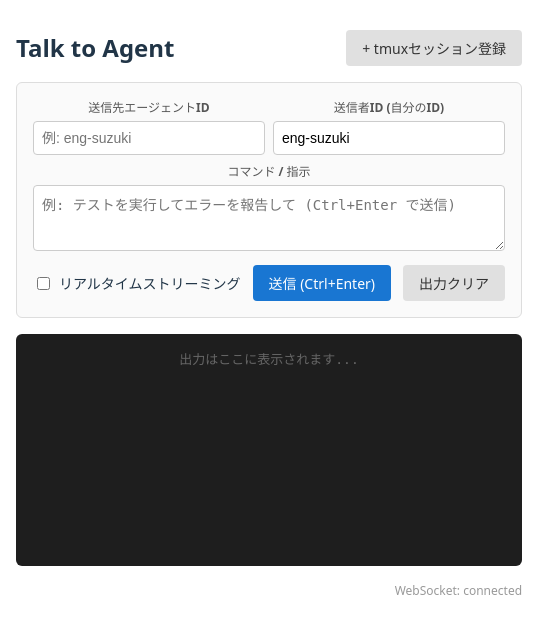
it: TalkToAgent › エラー時にエラーメッセージが表示される
Type "eng-yamada" into the field with placeholder "例: eng-suzuki" at [149, 138], box [33,121,265,155]
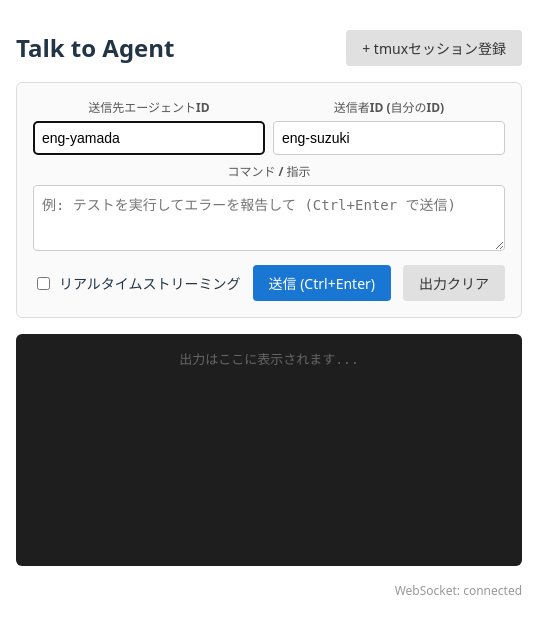
Type "ls" into the text box with placeholder "例: テストを実行してエラーを報告して (Ctrl+Enter で送信)" at [269, 218], box [33,185,505,251]
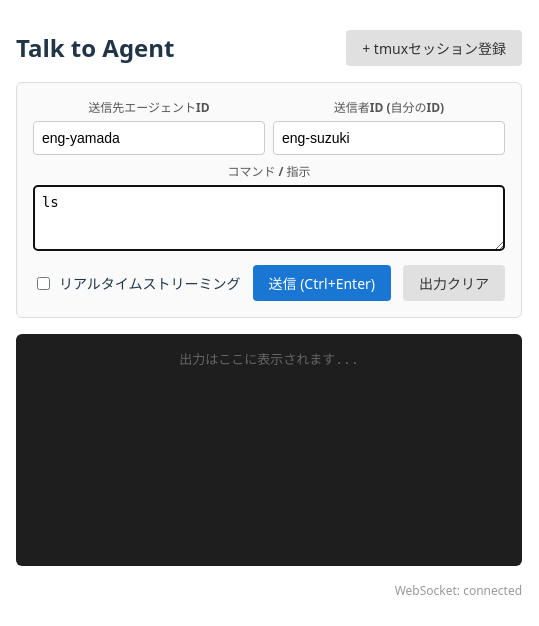
Click the button "送信 (Ctrl+Enter)" at [322, 283], box [252,265,391,301]
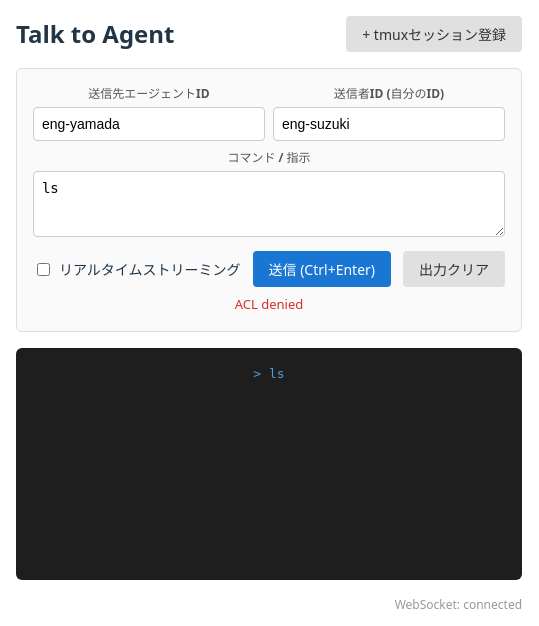
Expected: the text "ACL denied" is shown, [235,295,303,313]
